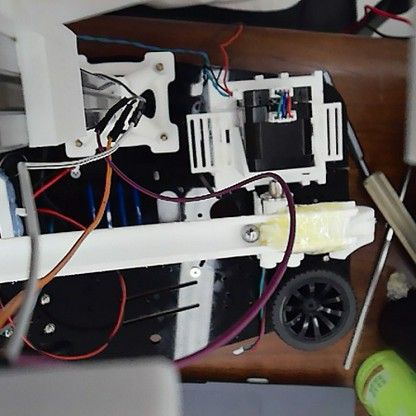ironball: (238, 221, 262, 244)
